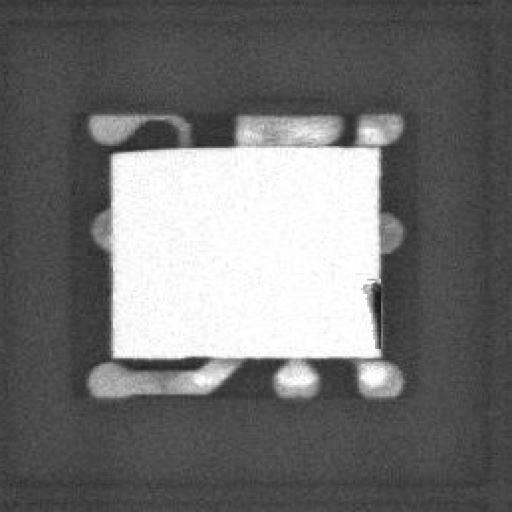DIE_BROKEN: (361, 275, 381, 349)
